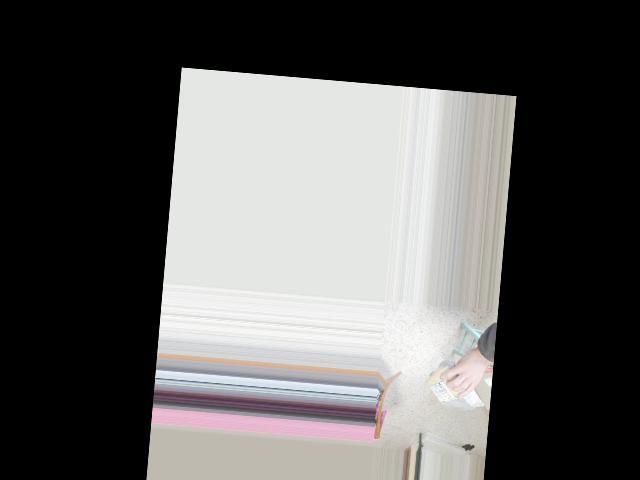cheese: (424, 362, 486, 411)
